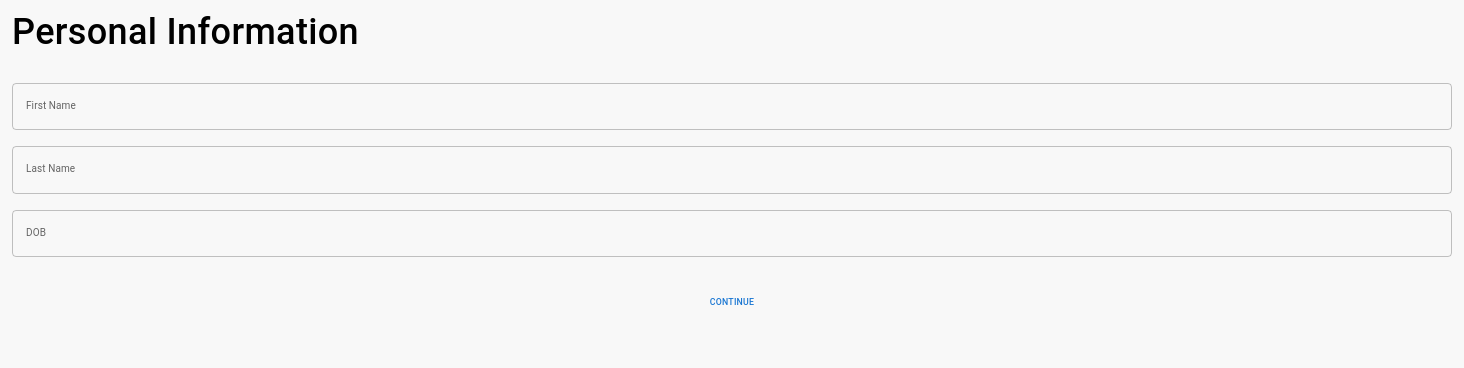
Test case: PersonalInformation Component › renders form validation errors
The image size is (1464, 368).
Click the button "Continue" at (732, 303), box [12,289,1452,316]
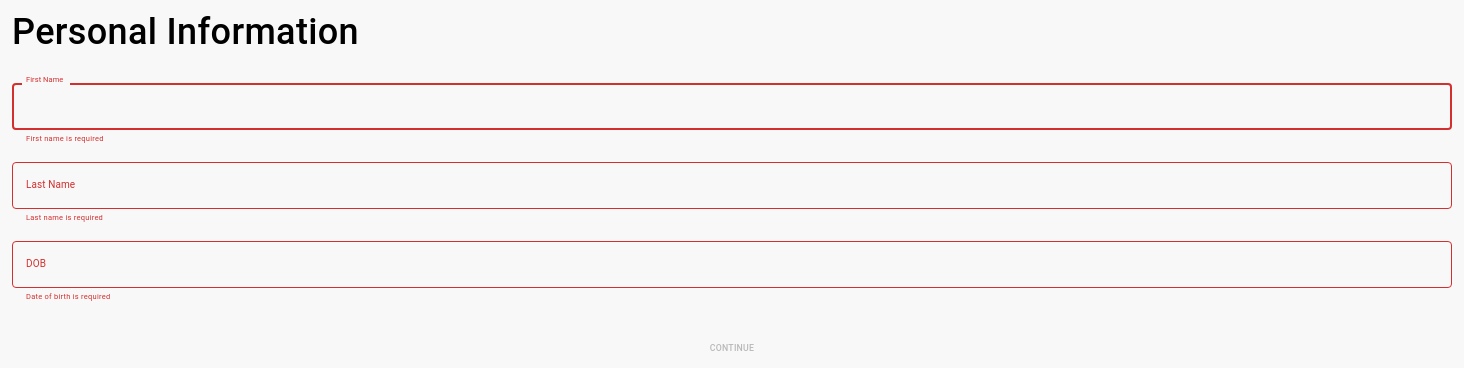
Result: the text "First name is required" is shown at [26,134,104,143]
